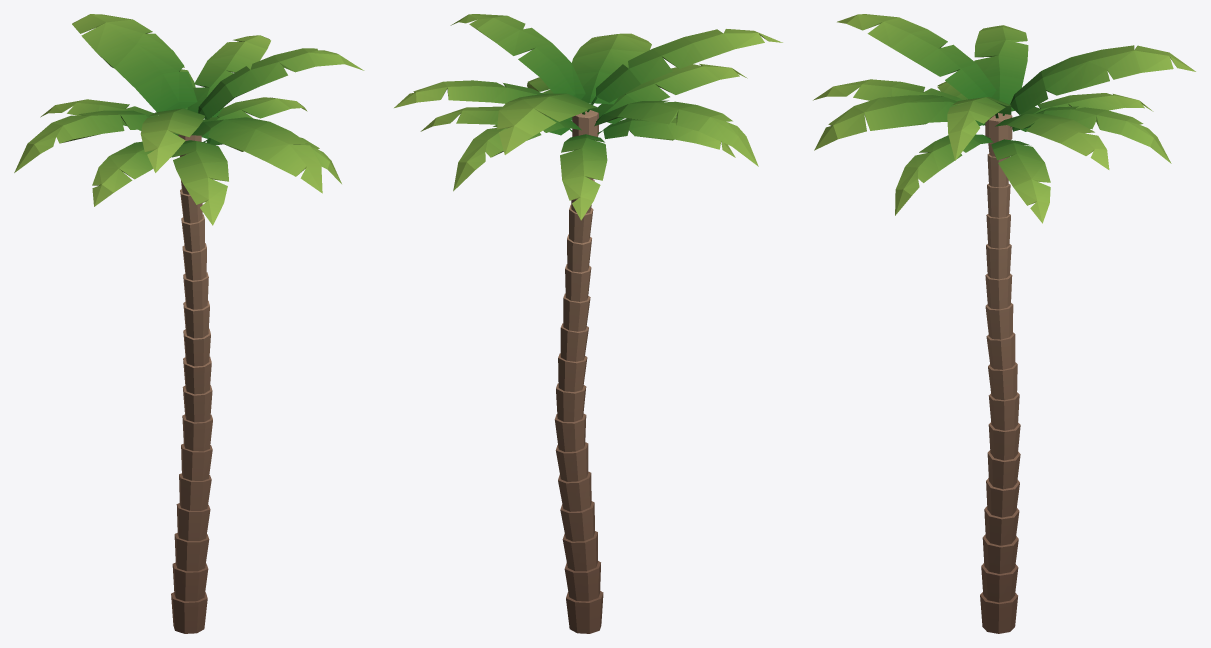
File: PalmTree_01.fbx
3 views of the same model, side by side, from view 1: azimuth 30°, elevation 25°; view 2: azimuth 150°, elevation 25°; view 3: azimuth 270°, elevation 25° (orthographic). The views are drawn at different scales.
Visible parts, largest first — view 1: PalmTree_01_LOD0; view 2: PalmTree_01_LOD0; view 3: PalmTree_01_LOD0.
Part boxes in pixels (x1,y1,x2,y2): PalmTree_01_LOD0: [14, 14, 364, 633]; PalmTree_01_LOD0: [394, 14, 782, 633]; PalmTree_01_LOD0: [813, 14, 1195, 633].
Size of what is drawn, in the model's own units: 2.75 by 4.51 by 2.76.
